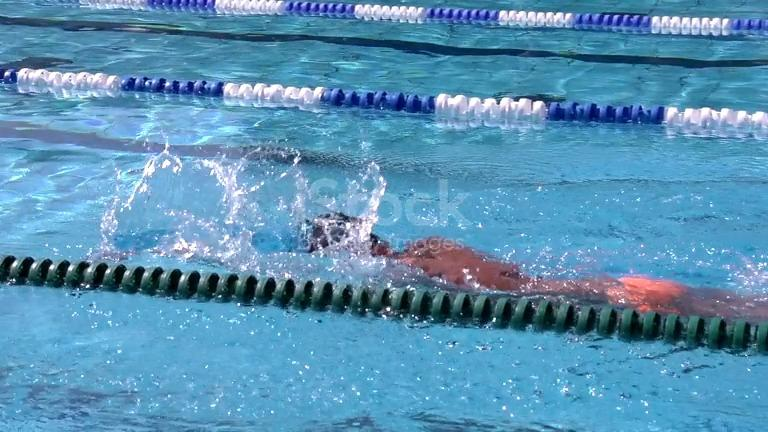Swimming: (295, 208, 766, 327)
